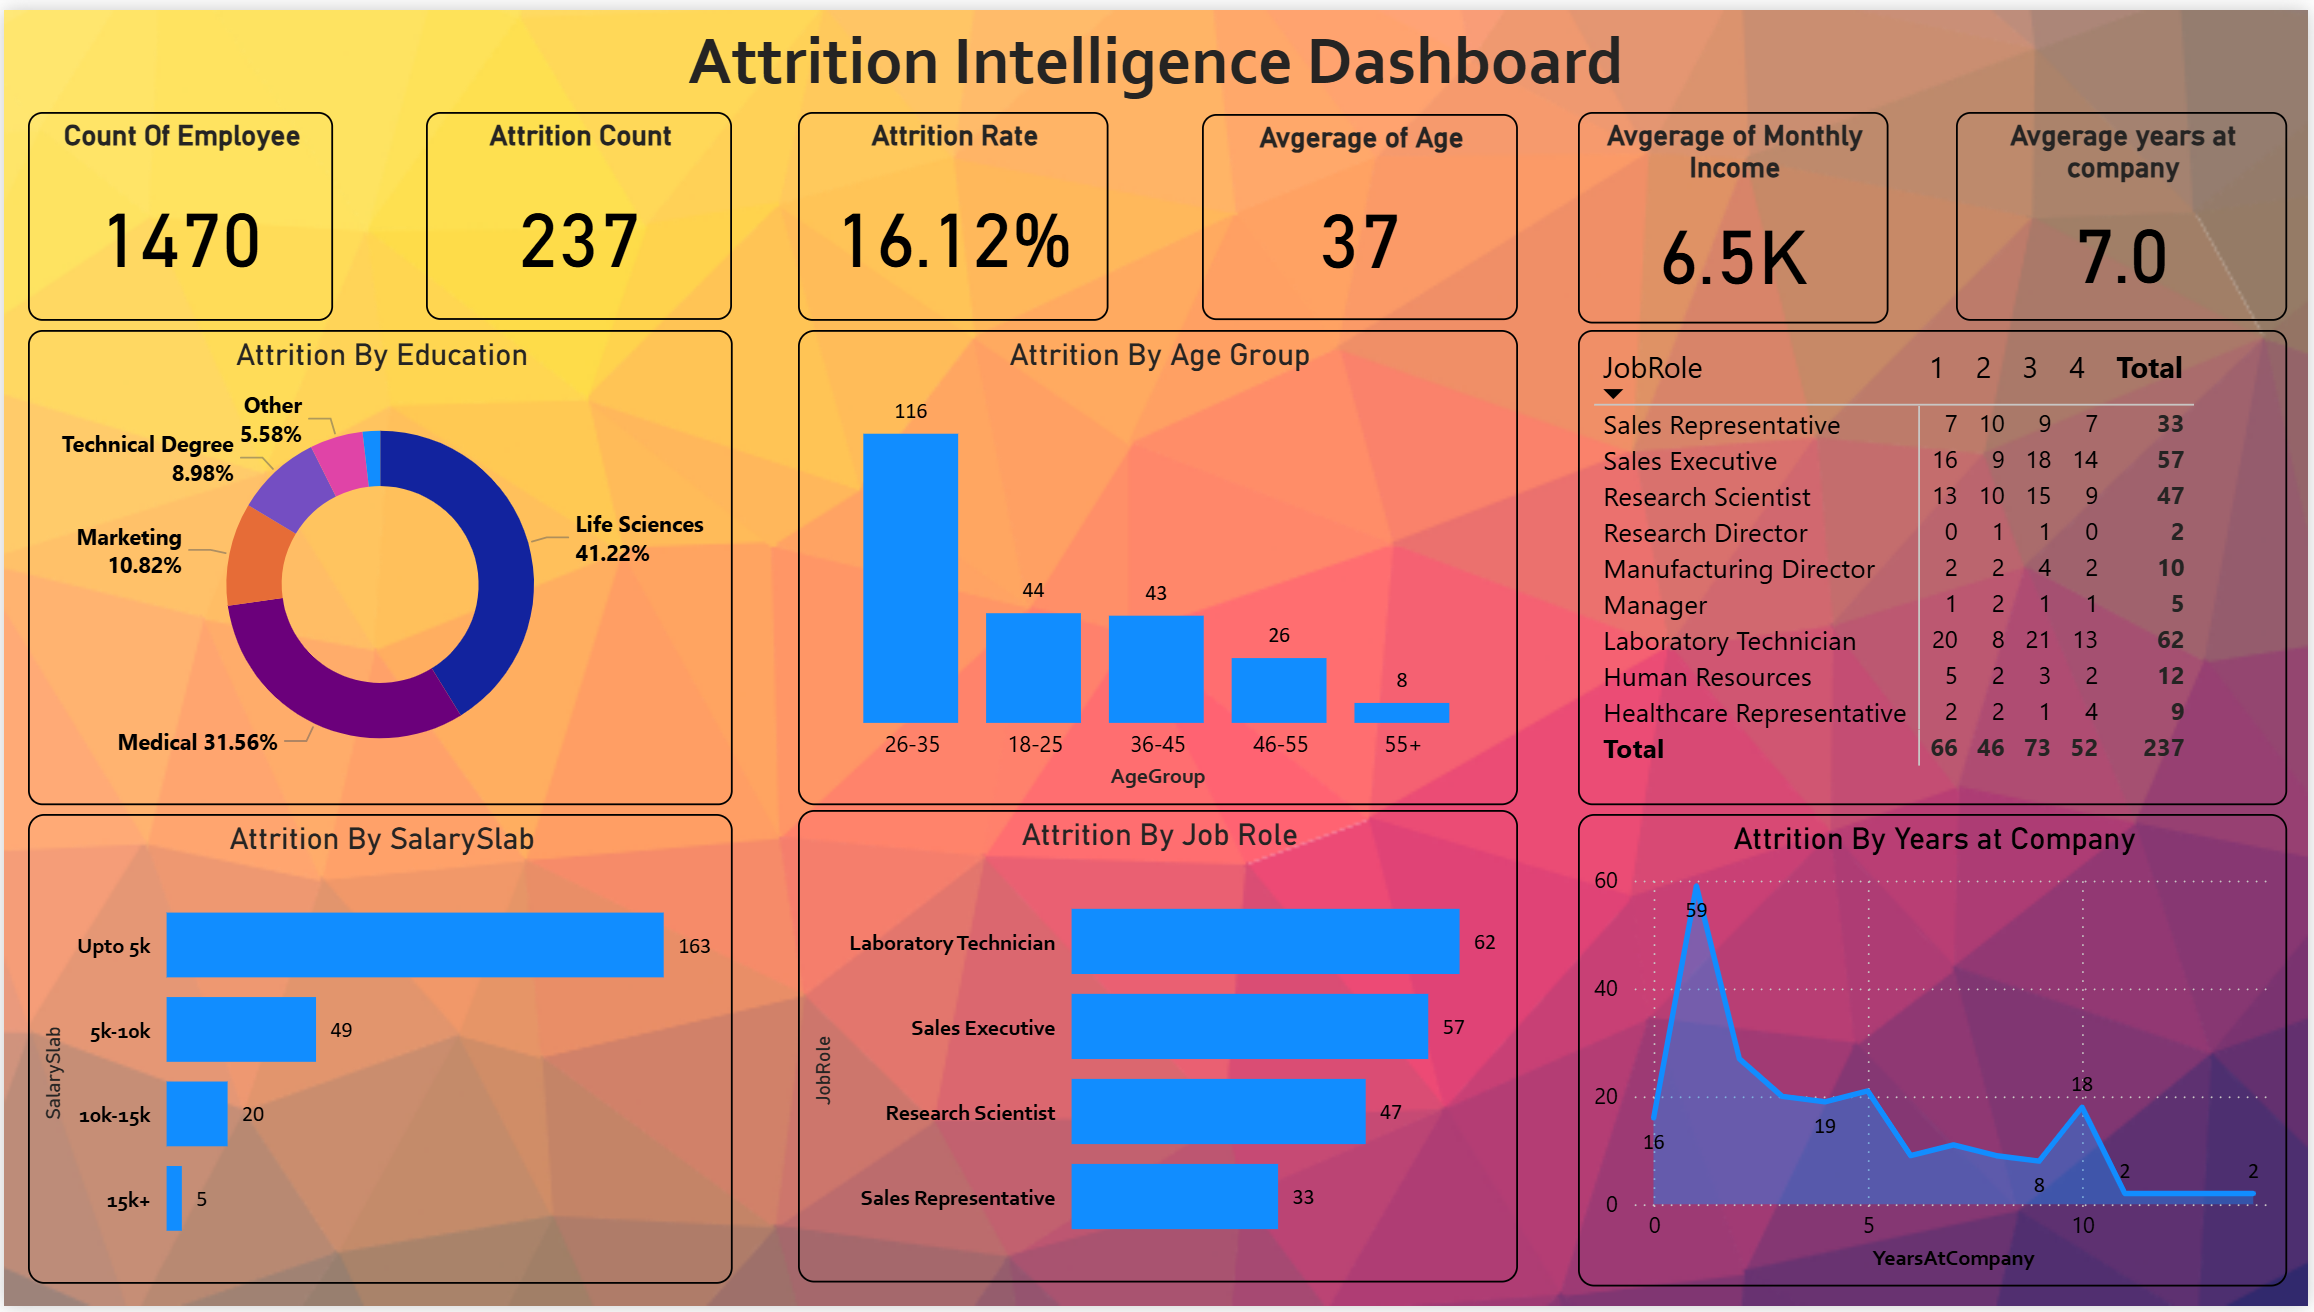

Layout of this report page (visuals, bound fields, positions):
{"tool":"powerbi","page":{"name":"Page 1","canvas":[1280,720],"ordinal":0},"visuals":[{"type":"card","title":"Count Of Employee","fields":{"Values":["Count(HR_Analytics.EmpID)"]},"box":[13,56.5,169.6,115.9],"z":0},{"type":"card","title":"Attrition Count","fields":{"Values":["Sum(HR_Analytics.AttritionCount)"]},"box":[234.4,56.7,170,115.6],"z":1000},{"type":"card","title":"Attrition Rate","fields":{"Values":["HR_Analytics.AttritionRate"]},"box":[440.6,56.5,172.5,115.9],"z":2000},{"type":"card","title":"Avgerage of Age","fields":{"Values":["Avg(HR_Analytics.Age)"]},"box":[665.2,58,175.4,114.5],"z":3000},{"type":"card","title":"Avgerage of Monthly Income","fields":{"Values":["Avg(HR_Analytics.MonthlyIncome)"]},"box":[873.9,56.5,172.5,117.4],"z":4000},{"type":"card","title":"Avgerage years at company","fields":{"Values":["Avg(HR_Analytics.YearsAtCompany)"]},"box":[1084.1,56.5,184.1,115.9],"z":5000},{"type":"donutChart","title":"Attrition By Education","fields":{"Category":["HR_Analytics.EducationField"],"Y":["CountNonNull(HR_Analytics.Attrition)"]},"box":[13,178.3,391.3,263.8],"z":6000},{"type":"columnChart","title":"Attrition By Age Group","fields":{"Y":["Sum(HR_Analytics.AttritionCount)"],"Category":["HR_Analytics.AgeGroup"]},"box":[440.6,178.3,400,263.8],"z":7000},{"type":"pivotTable","fields":{"Rows":["HR_Analytics.JobRole"],"Columns":["HR_Analytics.JobSatisfaction"],"Values":["Sum(HR_Analytics.AttritionCount)"]},"box":[873.9,178.3,394.2,263.8],"z":7001},{"type":"barChart","title":"Attrition By SalarySlab","fields":{"Category":["HR_Analytics.SalarySlab"],"Y":["Sum(HR_Analytics.AttritionCount)"]},"box":[13,446.4,391.3,260.9],"z":7002},{"type":"barChart","title":"Attrition By Job Role","fields":{"Y":["Sum(HR_Analytics.AttritionCount)"],"Category":["HR_Analytics.JobRole"]},"box":[440.6,444.9,400,262.3],"z":7003},{"type":"areaChart","title":"Attrition By Years at Company","fields":{"Category":["HR_Analytics.YearsAtCompany"],"Y":["Sum(HR_Analytics.AttritionCount)"]},"box":[873.9,446.4,394.2,262.3],"z":7004},{"type":"textbox","box":[0,0,1279.7,56.5],"z":7005}]}

Visuals, with their boxes in screenshot pixels (x1, y1, x2, y2), scaled from the page's 1280x720 canvas onto the 2314x1312 screenshot:
"Count Of Employee" card: l=24, t=103, r=330, b=314
"Attrition Count" card: l=424, t=103, r=731, b=314
"Attrition Rate" card: l=797, t=103, r=1108, b=314
"Avgerage of Age" card: l=1203, t=106, r=1520, b=314
"Avgerage of Monthly Income" card: l=1580, t=103, r=1892, b=317
"Avgerage years at company" card: l=1960, t=103, r=2293, b=314
"Attrition By Education" donutChart: l=24, t=325, r=731, b=806
"Attrition By Age Group" columnChart: l=797, t=325, r=1520, b=806
pivotTable - HR_Analytics.JobRole x HR_Analytics.JobSatisfaction: l=1580, t=325, r=2292, b=806
"Attrition By SalarySlab" barChart: l=24, t=813, r=731, b=1289
"Attrition By Job Role" barChart: l=797, t=811, r=1520, b=1289
"Attrition By Years at Company" areaChart: l=1580, t=813, r=2292, b=1291
textbox: l=0, t=0, r=2313, b=103
